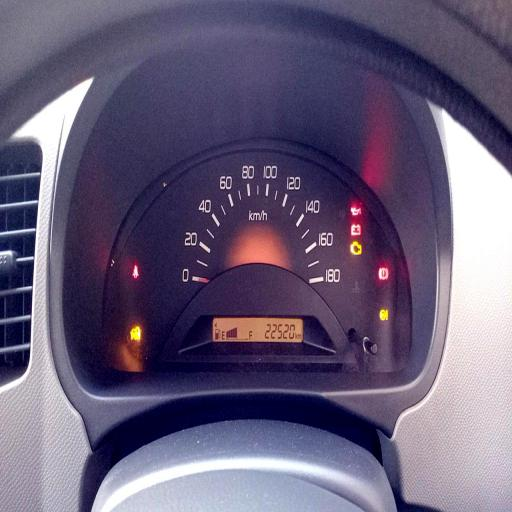belt: (132, 263, 139, 280)
brake_system_fault: (378, 266, 389, 282)
check_engine: (349, 240, 362, 256)
oil: (350, 206, 362, 216)
vehicle_charging: (351, 224, 361, 236)
